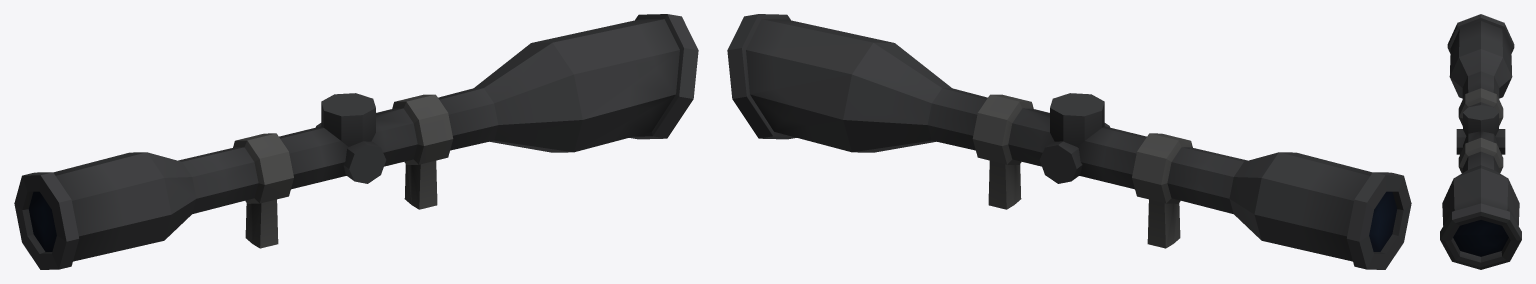
The model's file is q-acc-scope-2.glb.
3 renders of one model, left to right at view 1: azimuth 30°, elevation 25°; view 2: azimuth 150°, elevation 25°; view 3: azimuth 270°, elevation 25°, orthographic. The views are drawn at different scales.
Visible parts, largest first — view 1: scope; view 2: scope; view 3: scope.
Part boxes in pixels (x1,y1,x2,y2): scope: (14, 14, 698, 269); scope: (727, 14, 1411, 269); scope: (1440, 14, 1521, 269).
Size of the model in its own units: 0.2537 by 0.0486 by 0.044.
